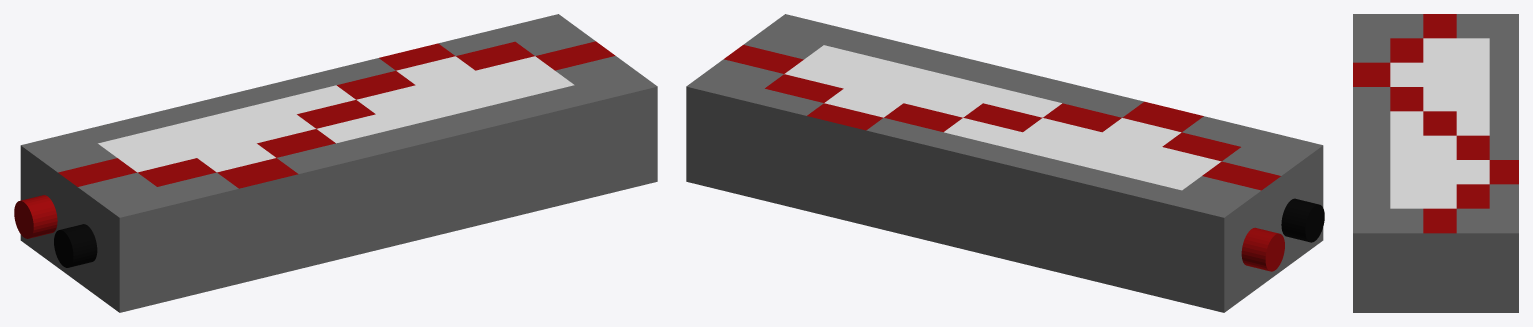
File: Battery no.fbx
The picture shows the model from 3 angles, left to right: view 1: azimuth 30°, elevation 25°; view 2: azimuth 150°, elevation 25°; view 3: azimuth 270°, elevation 25°; orthographic projection. The views are drawn at different scales.
Visible parts, largest first — view 1: Cube; view 2: Cube; view 3: Cube.
Part boxes in pixels (left/top/right/bottom): Cube: left=14, top=14, right=657, bottom=312; Cube: left=686, top=14, right=1324, bottom=312; Cube: left=1353, top=14, right=1518, bottom=312.
Size of the model in its own units: 654 by 106 by 200.
